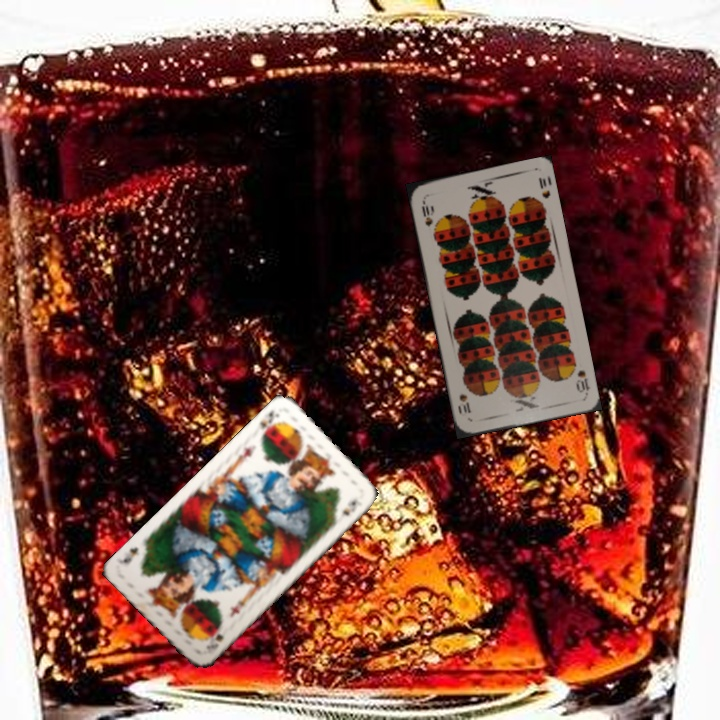S10: (572, 366, 592, 396), (418, 195, 435, 229)
SK: (255, 405, 283, 442), (202, 630, 226, 652)
